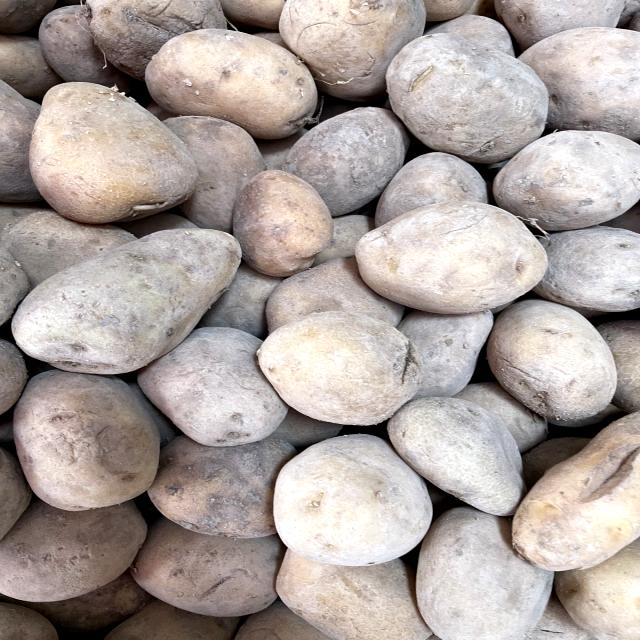potato: (0, 221, 260, 384), (17, 69, 207, 231), (379, 20, 568, 169), (261, 421, 444, 570), (349, 188, 551, 316), (143, 18, 333, 140), (253, 302, 436, 423), (477, 285, 628, 430), (206, 159, 346, 280)
